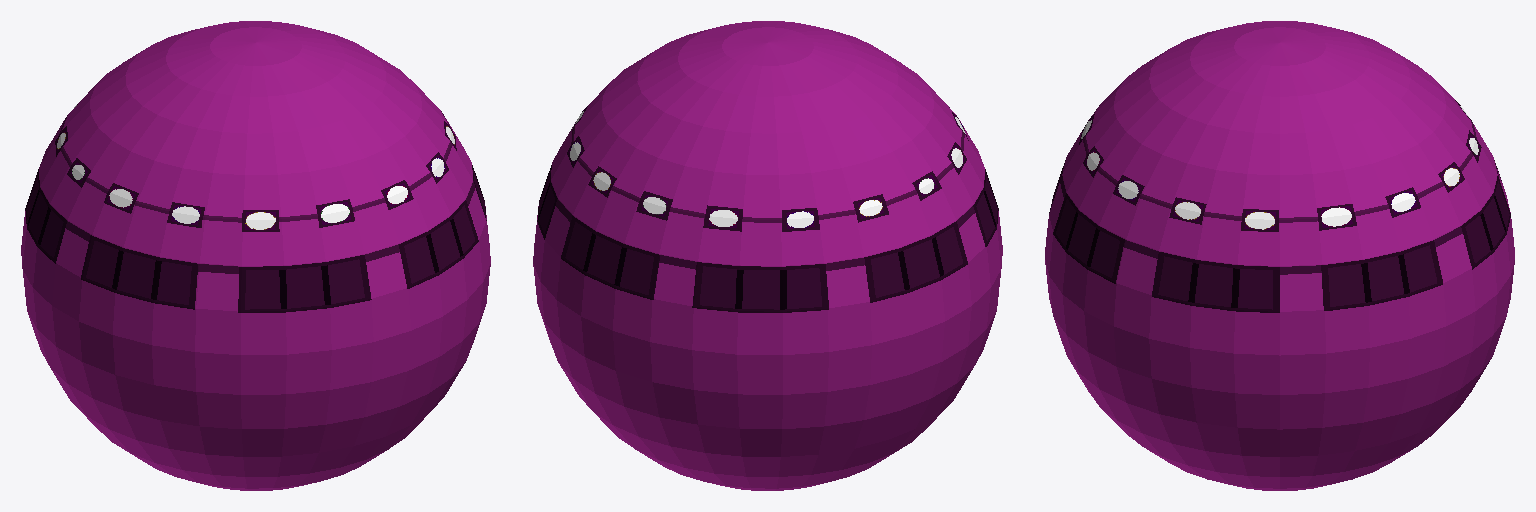
3 views of the same model, side by side, from view 1: azimuth 30°, elevation 25°; view 2: azimuth 150°, elevation 25°; view 3: azimuth 270°, elevation 25° (orthographic).
Parts seen in each view (by area): view 1: 球; view 2: 球; view 3: 球.
Boxes of the visible parts, x1,y1,x2,y2 form: 球: [21, 21, 490, 490]; 球: [533, 21, 1002, 490]; 球: [1045, 21, 1514, 490].
Bounding box in the file's own units: 2 × 2 × 2.
Materials: 1 (1 with a texture image).